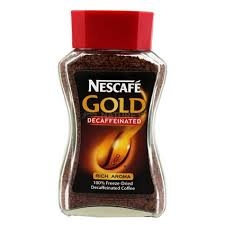nescafe-classic/gold-med: (55, 12, 164, 216)
